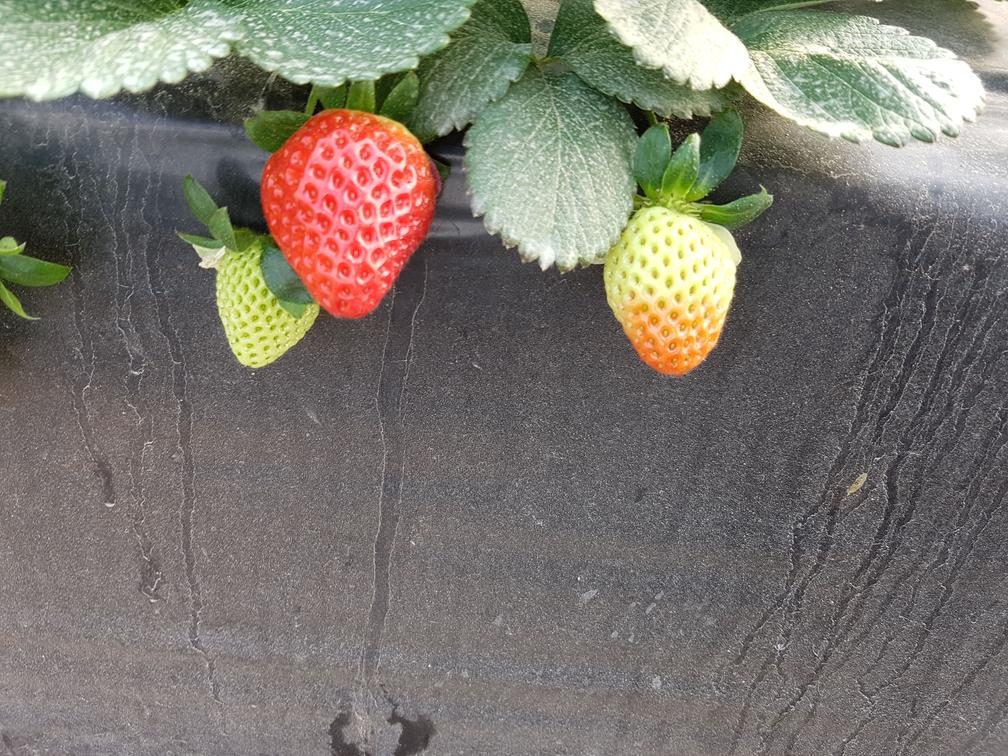Ripe: (255, 100, 441, 326)
Unripe: (602, 203, 745, 380), (213, 250, 309, 372)
